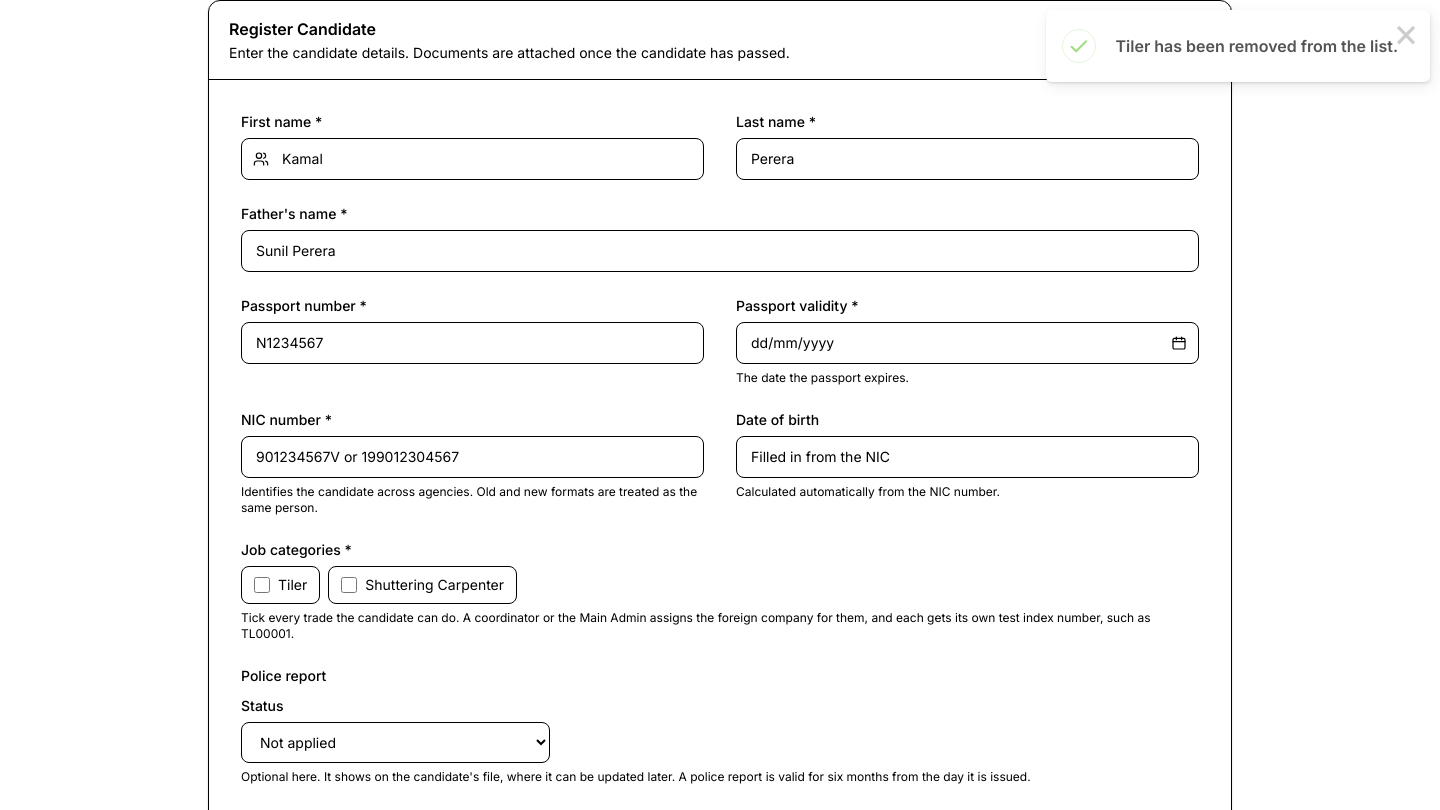
Test case: registering a candidate › fills in the date of birth from the NIC
The width and height of the screenshot is (1440, 810).
Expected: the checkbox labelled "Tiler" is shown, x1=254 y1=577 x2=270 y2=593
Expected: the element with test id "date-of-birth" reads "Filled in from the NIC", x1=751 y1=448 x2=890 y2=465
Note: Day 522: a woman born on 22 January 1990.
Step 1. Type "905223456V" into the field labelled "NIC number *" → (472, 457), box x1=241 y1=436 x2=704 y2=478
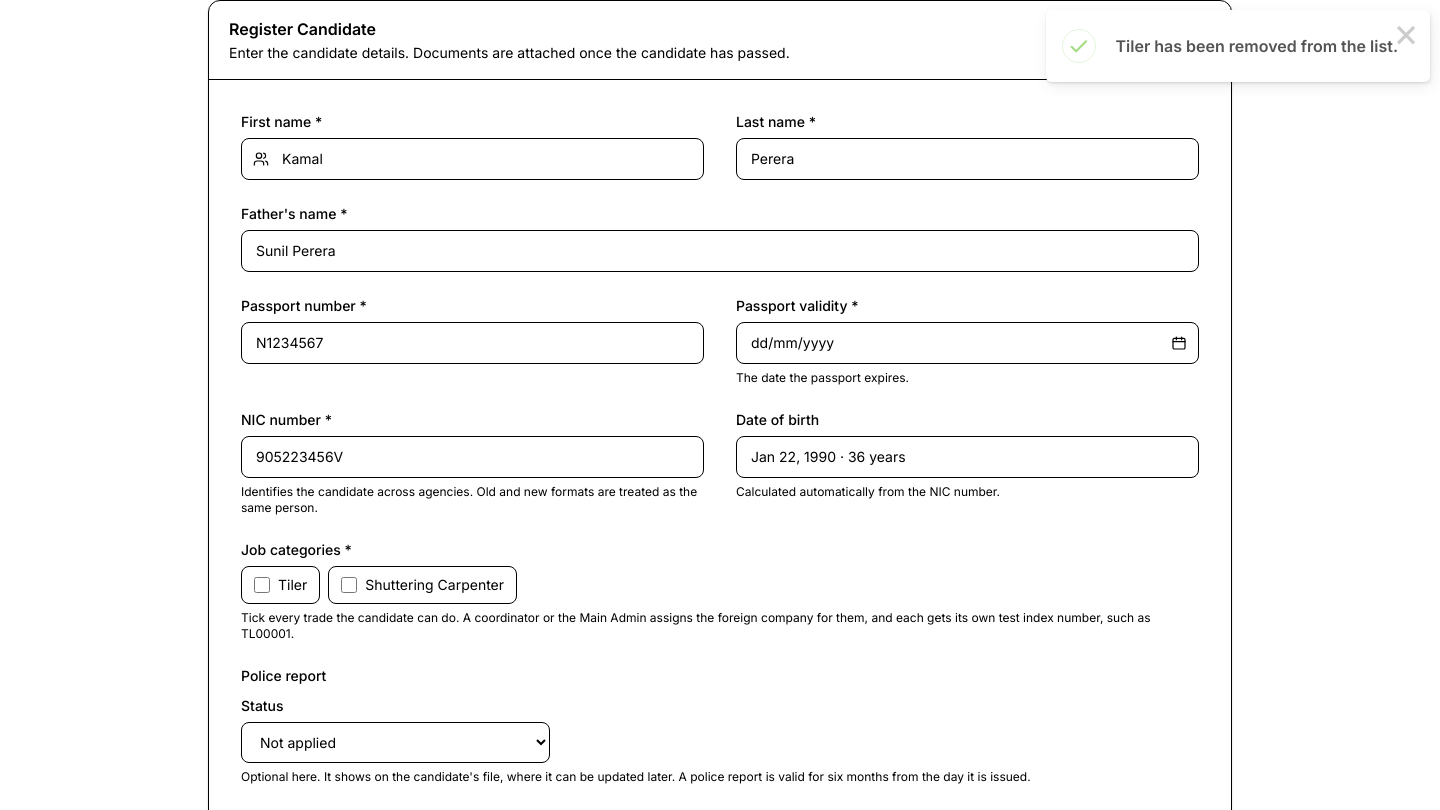
Now the text with test id "date-of-birth" shows "1990", box x1=751 y1=448 x2=906 y2=465
Now the text with test id "date-of-birth" shows "22", box x1=751 y1=448 x2=906 y2=465
